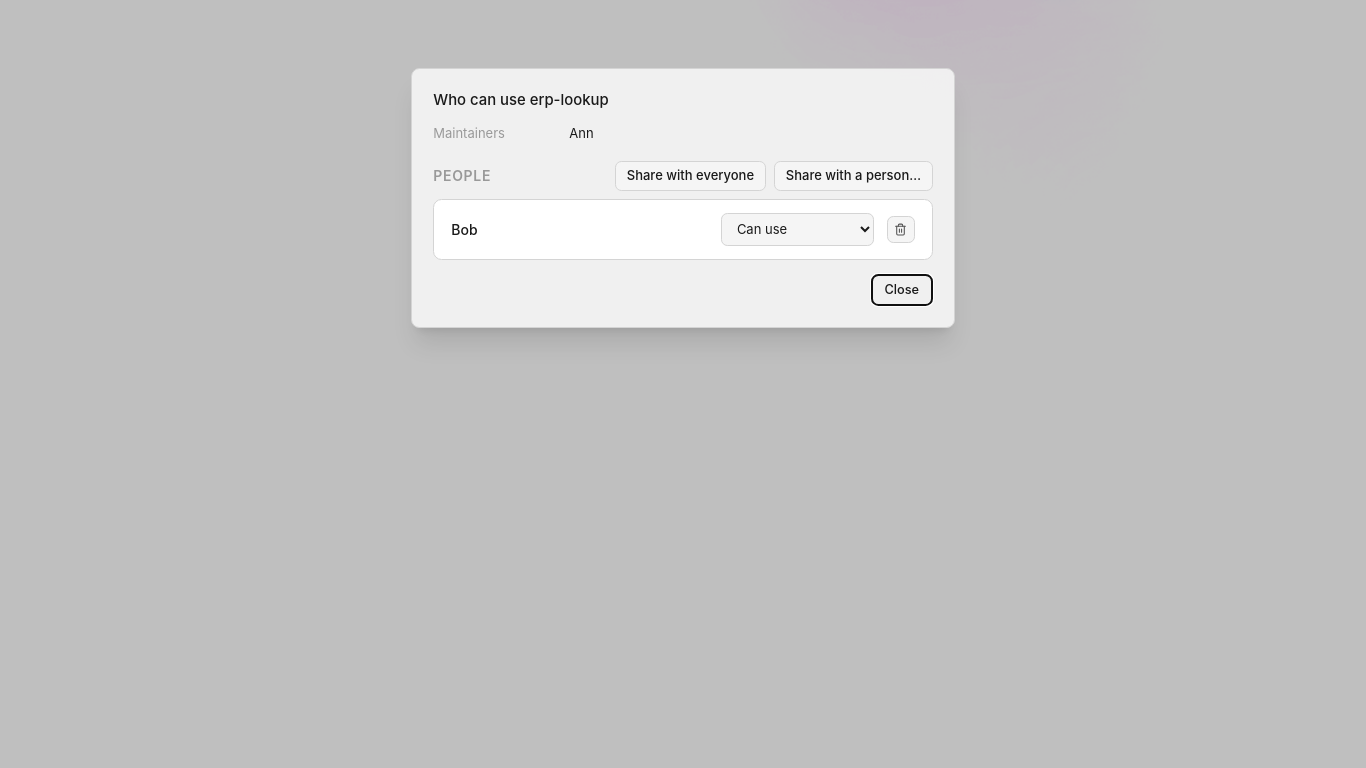
Who can use a skill › adds a person in place of the list, and goes back to it once the server took them
Click the button "Share with a person…": (854, 176) [774,161,933,191]
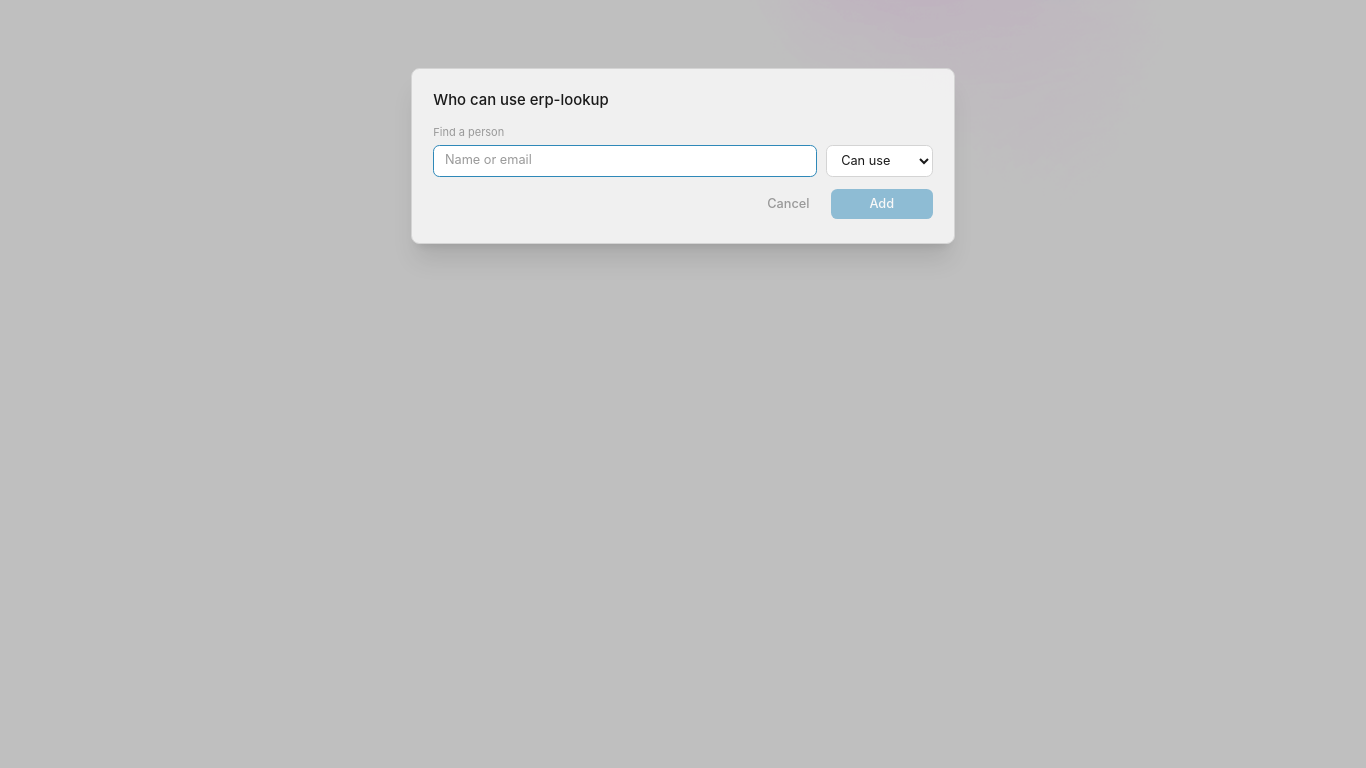
Expected: the number of dialogs is 1, [411,68,955,244]
In the dropdown labelled "Find a person": (625, 161) [433,145,817,177], type "car"
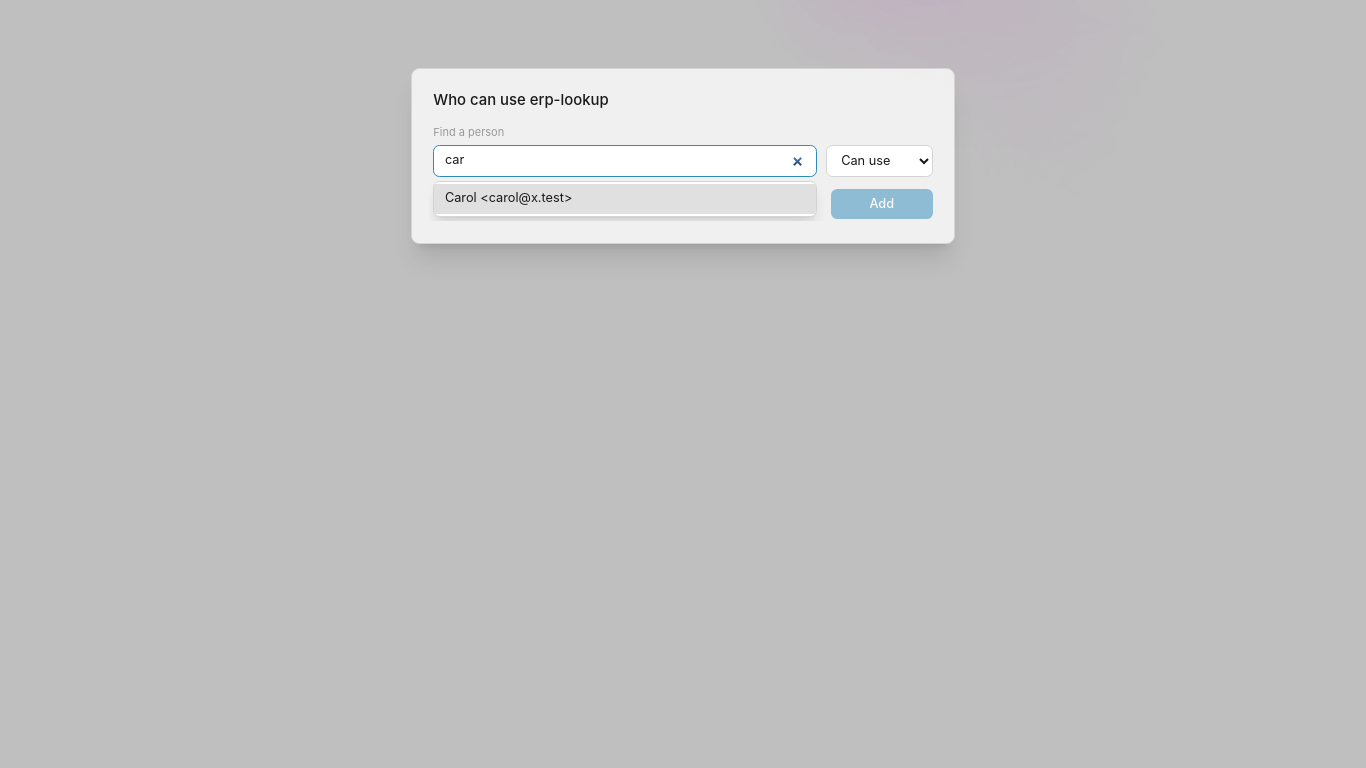
Click the option "Carol <carol@x.test>": (509, 198) [434,184,816,214]
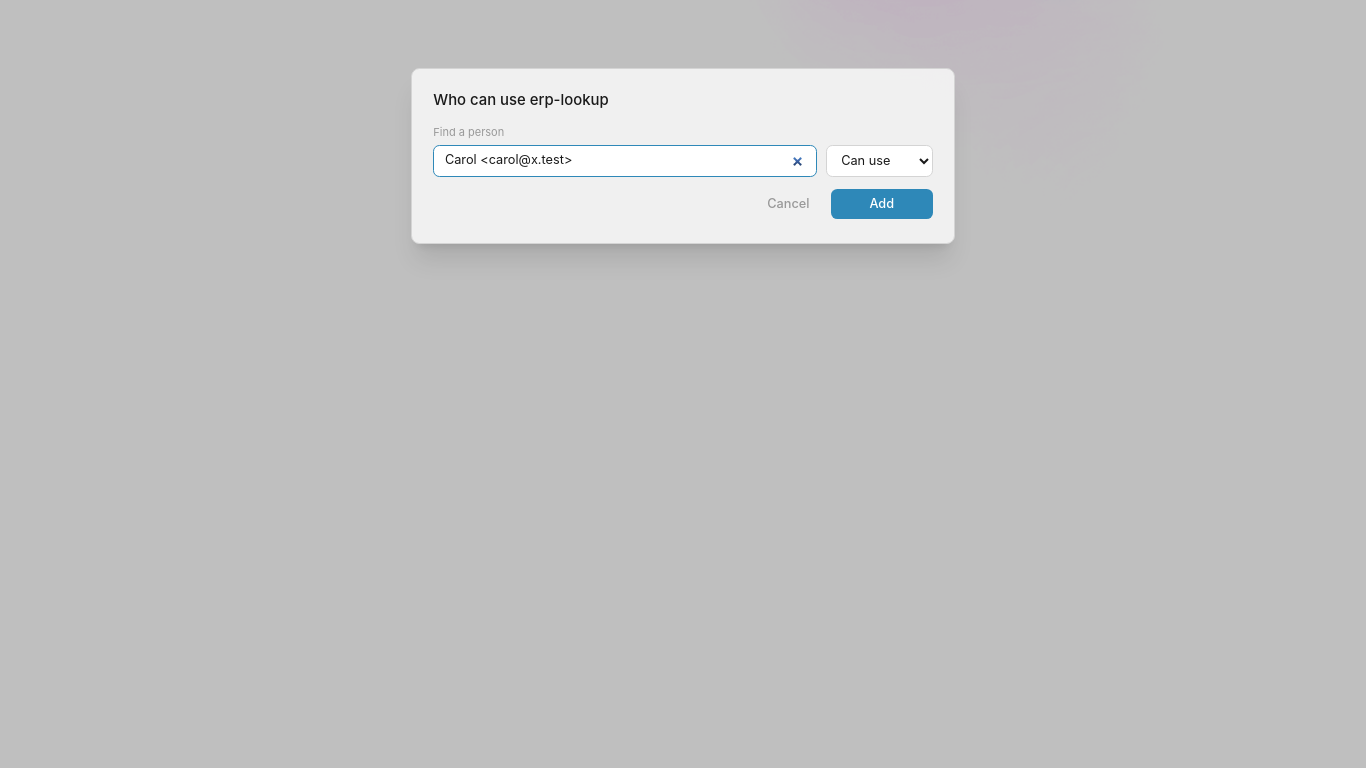
Select "Can edit" in the dropdown named "Access": (879, 161) [826,145,933,177]
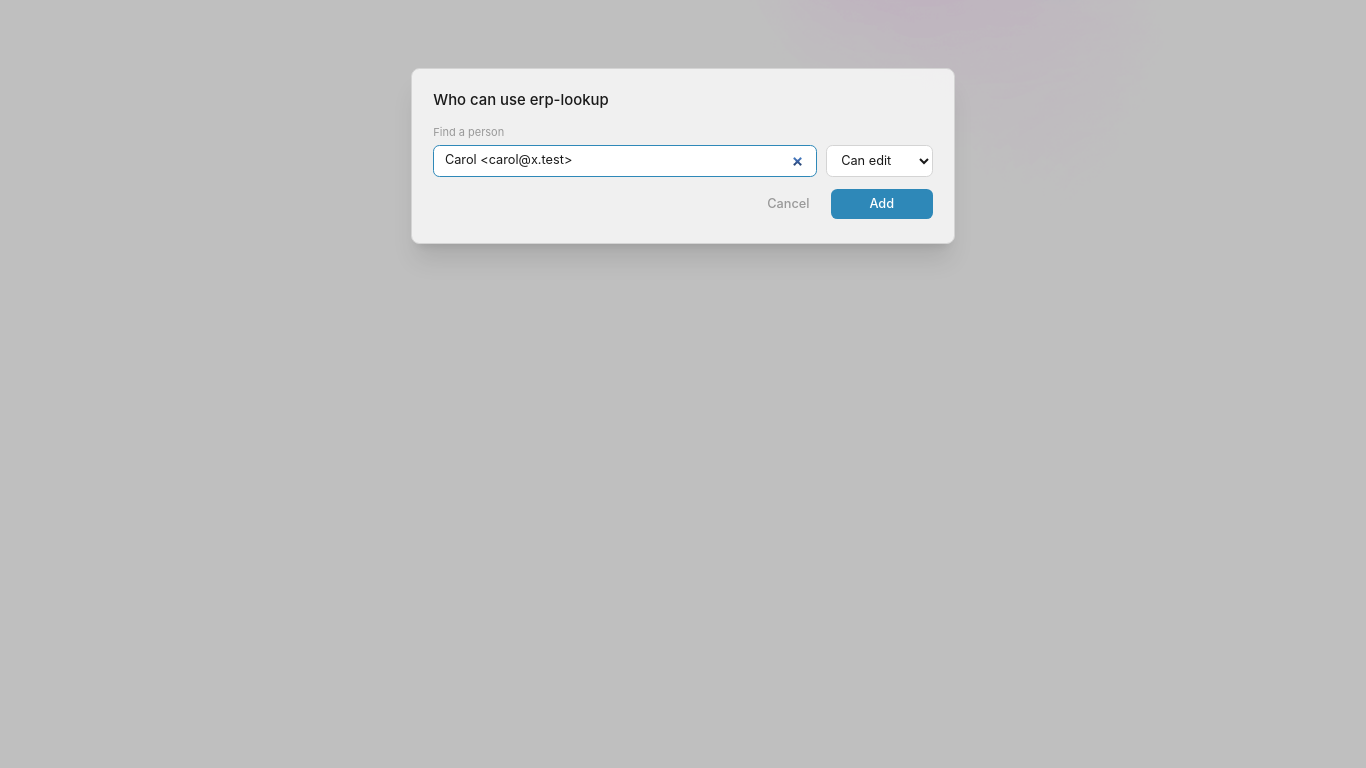
Click the button "Add": (882, 204) [831,190,933,219]
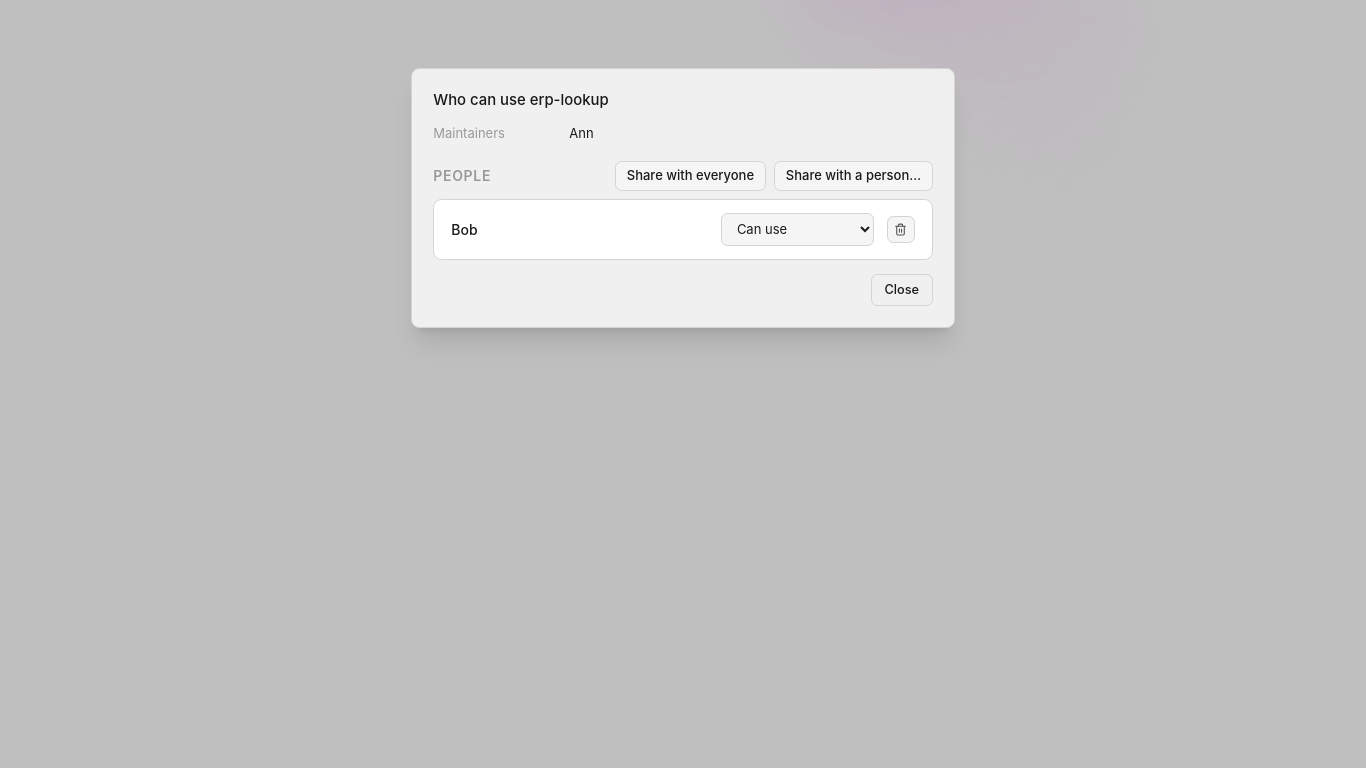
Now the button "Share with a person…" is shown, box [774,161,933,191]
